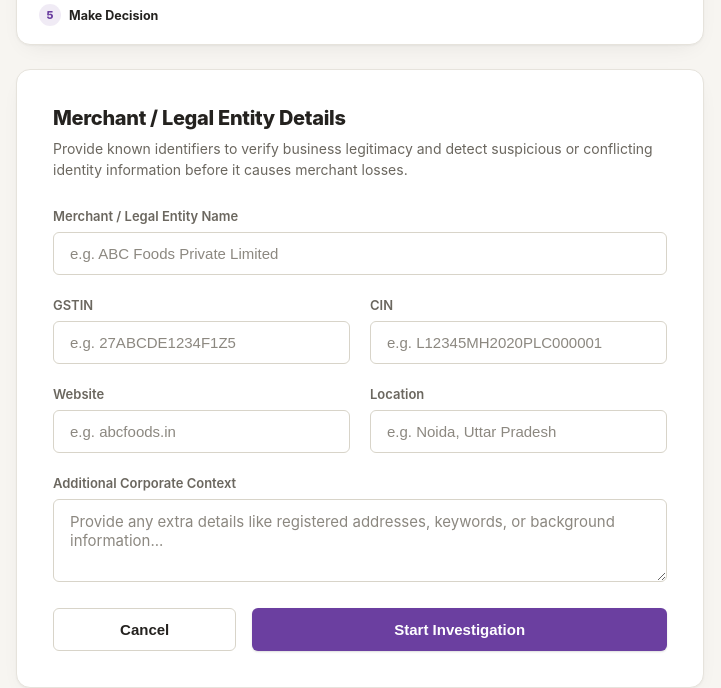
BizRisk Frontend Component Tests › shows validation error when starting an investigation with empty identifiers
Click the button "Start Investigation" at (460, 630), box [252,608,667,651]
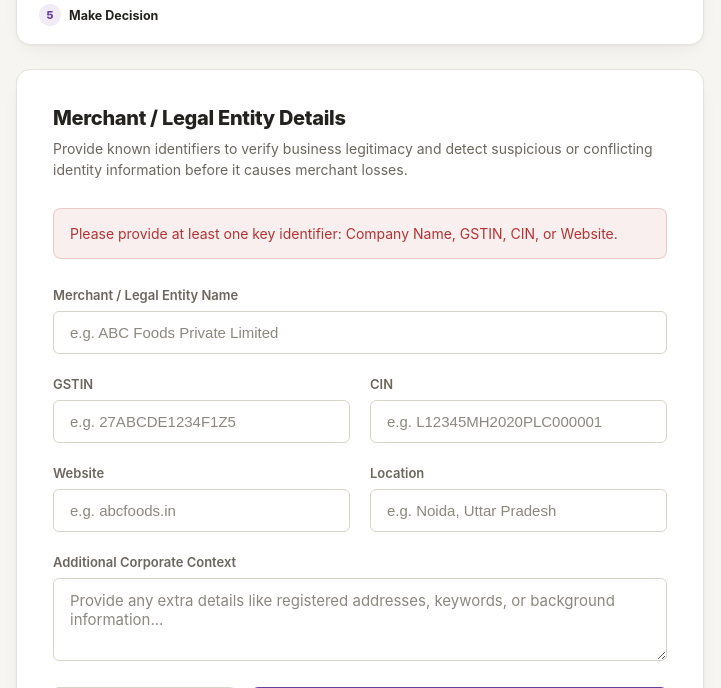
Expected: the text "Please provide at least one key identifier" is shown, [70,225,618,242]
